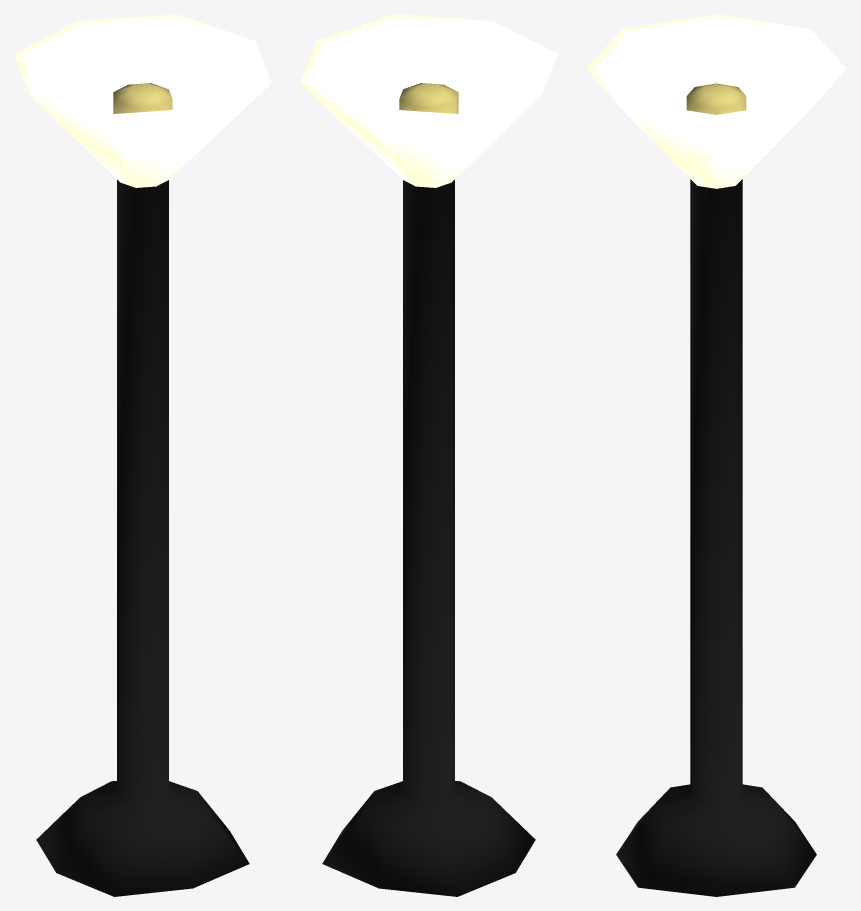
The model's file is lamp.fbx.
3 renders of one model, left to right at view 1: azimuth 30°, elevation 25°; view 2: azimuth 150°, elevation 25°; view 3: azimuth 270°, elevation 25°, orthographic.
Visible parts, largest first — view 1: Cube; view 2: Cube; view 3: Cube.
Boxes of the visible parts, left/top/right/bottom form: Cube: left=14, top=14, right=271, bottom=896; Cube: left=300, top=14, right=557, bottom=896; Cube: left=586, top=14, right=846, bottom=896.
Size of the model in its own units: 259 by 863 by 259.
